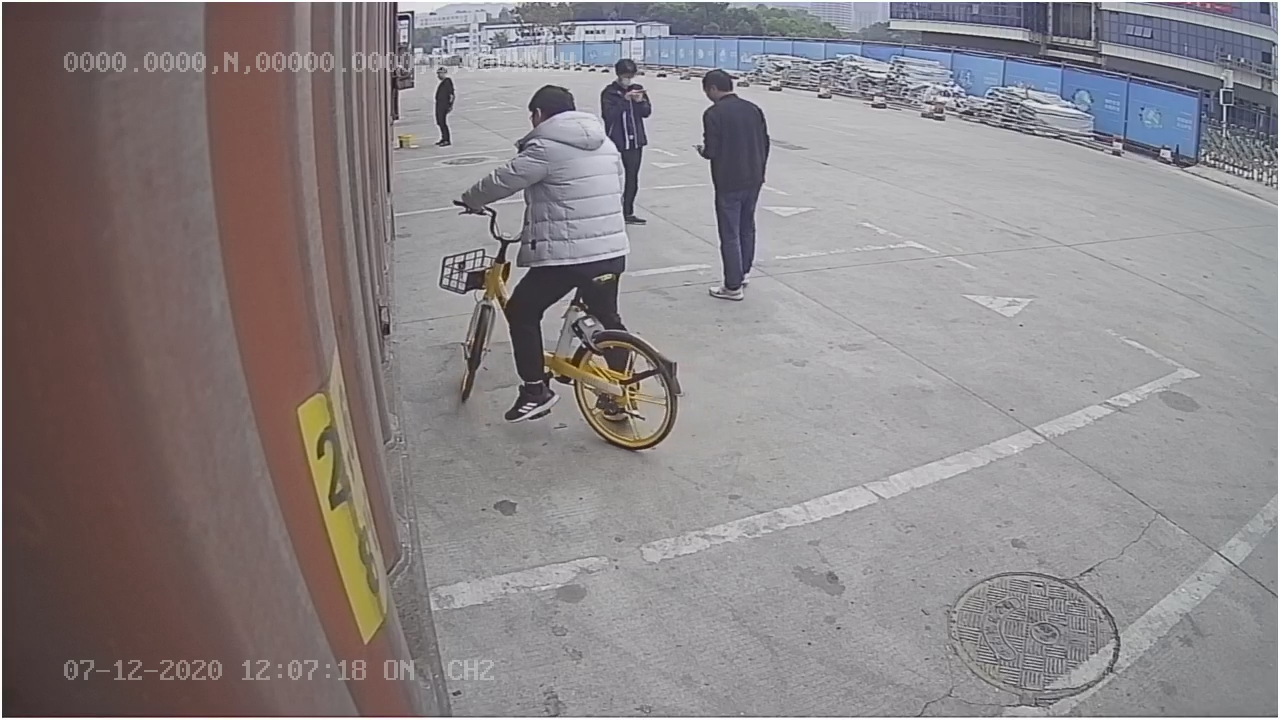person: (691, 62, 776, 307)
